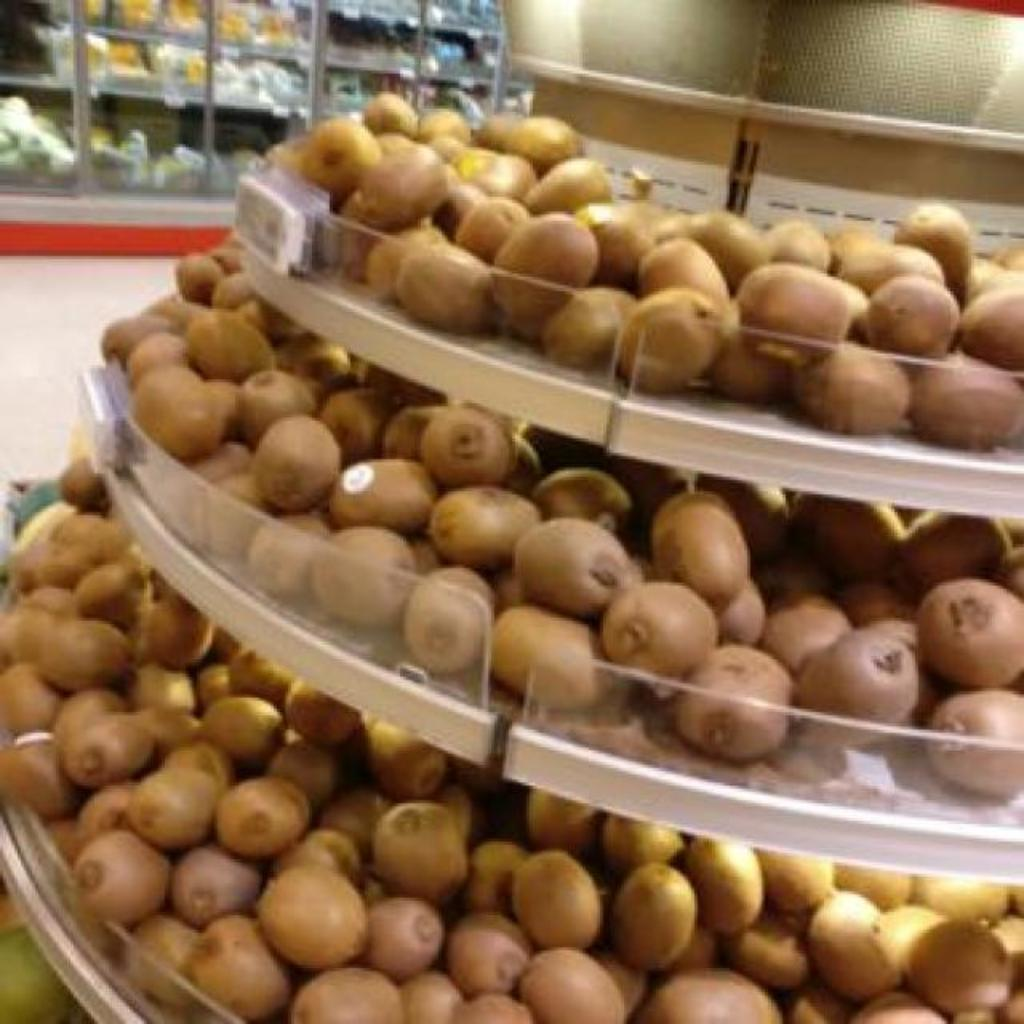kiwi: (676, 646, 792, 759), (916, 578, 1024, 687), (514, 522, 640, 615), (799, 628, 918, 723), (652, 494, 750, 609), (128, 742, 232, 849), (602, 582, 718, 677), (618, 288, 722, 393), (494, 606, 600, 707), (258, 870, 366, 969), (312, 526, 414, 627), (188, 916, 288, 1019), (808, 890, 900, 1001), (929, 690, 1024, 797), (796, 344, 910, 433), (916, 356, 1024, 449), (402, 566, 494, 675), (134, 366, 238, 461), (908, 920, 1012, 1013), (798, 496, 906, 581), (376, 804, 468, 903), (428, 486, 540, 567), (612, 864, 698, 969), (74, 830, 170, 923), (344, 144, 446, 231), (252, 414, 342, 511), (396, 244, 492, 333), (740, 264, 850, 341), (514, 852, 602, 948), (632, 968, 782, 1023), (330, 458, 438, 533), (518, 950, 626, 1024), (214, 776, 310, 859), (420, 406, 516, 487), (494, 214, 598, 287), (894, 204, 972, 301), (684, 838, 762, 935), (698, 476, 786, 561), (170, 844, 262, 925), (904, 514, 1006, 587), (300, 116, 382, 205), (542, 288, 634, 367), (60, 714, 154, 789), (836, 228, 944, 293), (248, 514, 332, 597), (874, 276, 960, 355), (762, 596, 852, 671), (448, 914, 530, 995), (366, 896, 444, 981), (684, 214, 770, 291), (40, 618, 130, 691), (290, 968, 404, 1024), (532, 468, 632, 531), (368, 720, 446, 800), (190, 310, 276, 381), (130, 664, 196, 755), (368, 224, 448, 297), (202, 696, 282, 769), (642, 238, 726, 307), (726, 920, 810, 989), (642, 238, 728, 305), (240, 370, 316, 445), (318, 388, 390, 463), (140, 596, 212, 669), (318, 786, 390, 857), (962, 287, 1024, 369), (524, 158, 612, 213), (288, 680, 360, 747), (454, 198, 530, 261), (761, 850, 834, 913), (880, 904, 946, 971), (268, 742, 336, 807), (0, 662, 62, 733), (604, 816, 682, 871), (274, 828, 358, 879), (468, 840, 528, 911), (12, 542, 98, 591), (210, 486, 264, 563), (52, 688, 127, 743), (596, 218, 654, 289), (508, 116, 580, 173), (50, 514, 130, 565), (278, 334, 352, 389), (74, 568, 142, 627), (531, 790, 596, 851), (102, 314, 175, 365), (914, 879, 1007, 919), (228, 650, 292, 707), (3, 608, 64, 667), (400, 970, 462, 1024), (766, 220, 830, 271), (836, 865, 910, 909), (472, 154, 536, 199), (126, 338, 187, 385), (850, 994, 948, 1023), (58, 458, 106, 513), (450, 994, 534, 1023), (788, 986, 850, 1024), (366, 92, 418, 137), (146, 294, 205, 333), (836, 866, 848, 889)
